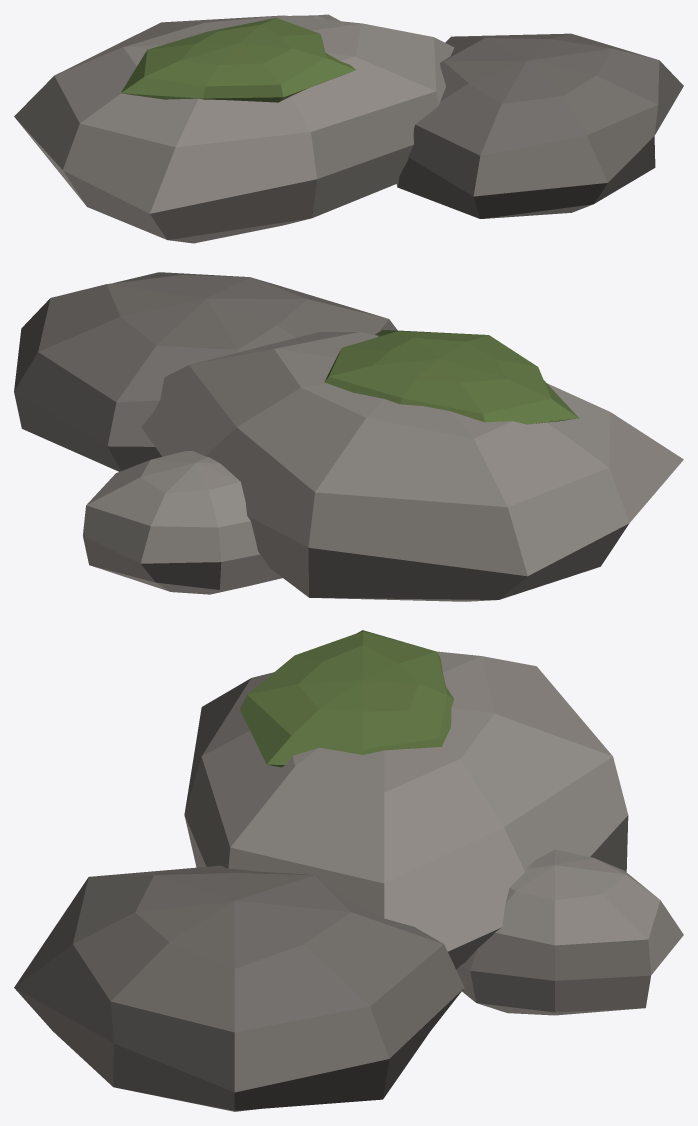
The model's file is rock_3.glb.
3 renders of one model, top to bottom at view 1: azimuth 30°, elevation 25°; view 2: azimuth 150°, elevation 25°; view 3: azimuth 270°, elevation 25°, orthographic. The views are drawn at different scales.
Visible parts, largest first — view 1: rock_3; view 2: rock_3; view 3: rock_3.
Boxes of the visible parts, <box> form: rock_3: <box>14,14,683,243</box>; rock_3: <box>14,272,683,601</box>; rock_3: <box>14,630,683,1111</box>.
Size of the model in its own units: 2.11 by 0.575 by 1.57.
